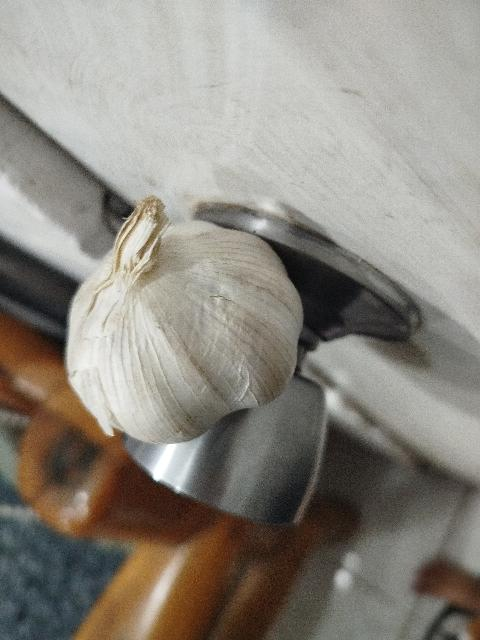garlic: (64, 195, 304, 445)
